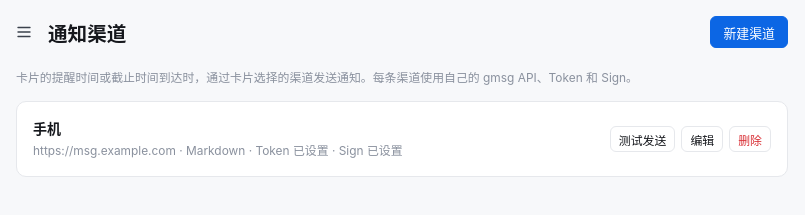
Test case: ChannelsPage › 测试发送失败时在渠道下显示错误信息
Click the button "测试发送" at coordinates (643, 139), box [610,126,675,152]
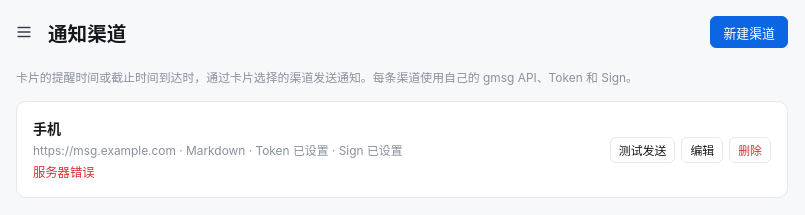
Expected: the text "服务器错误" is shown, [33,165,95,180]
